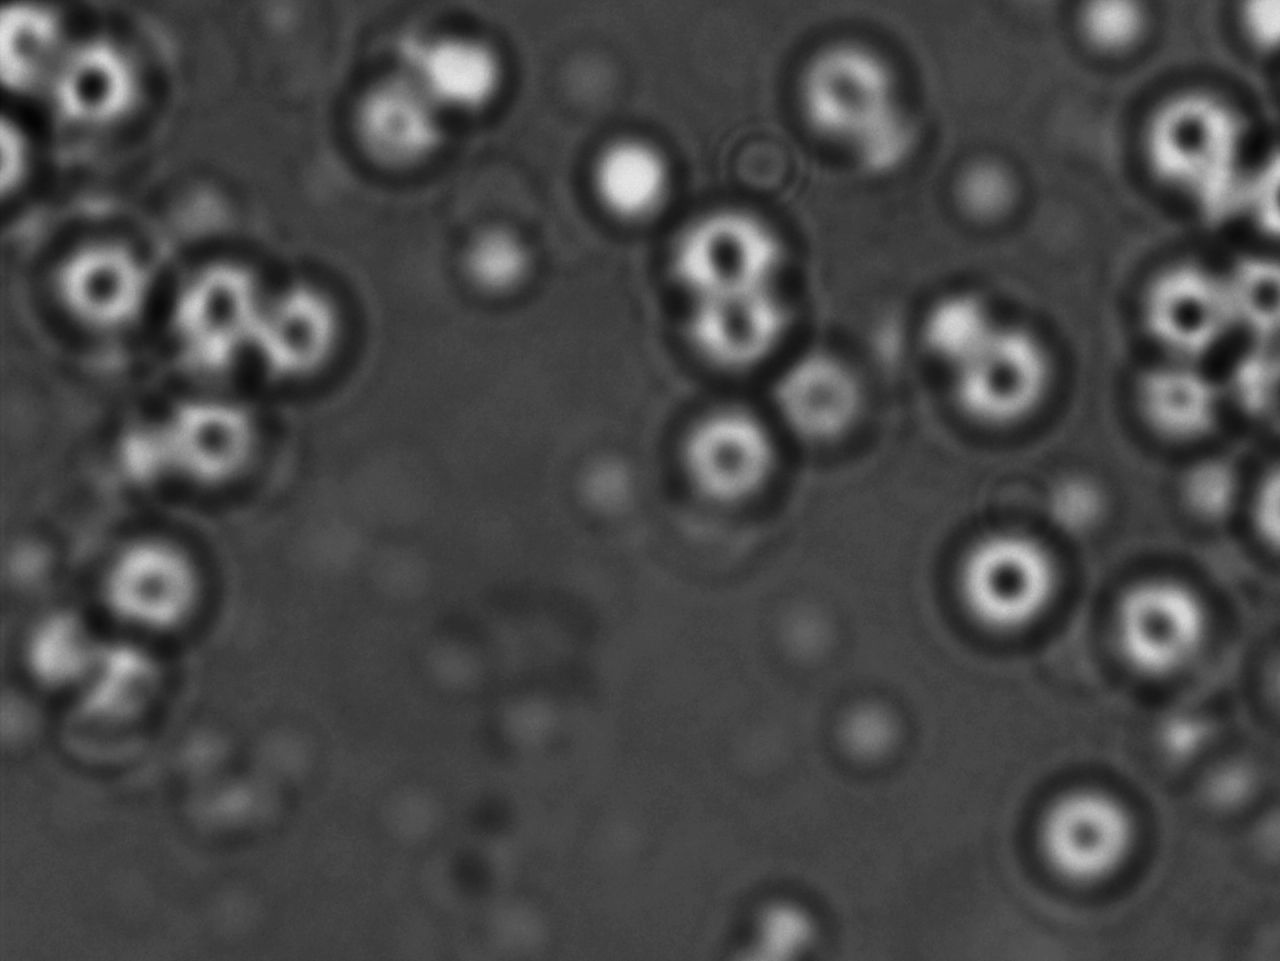depth:24: (937, 500, 1076, 649)
depth:32: (1014, 757, 1175, 911), (937, 295, 1080, 443), (1085, 551, 1233, 693), (656, 175, 795, 313), (1128, 72, 1265, 207), (668, 262, 806, 395), (88, 506, 225, 636), (648, 393, 784, 521), (234, 260, 366, 392), (148, 375, 289, 496), (155, 240, 285, 368), (1126, 255, 1256, 375), (45, 221, 163, 345)
